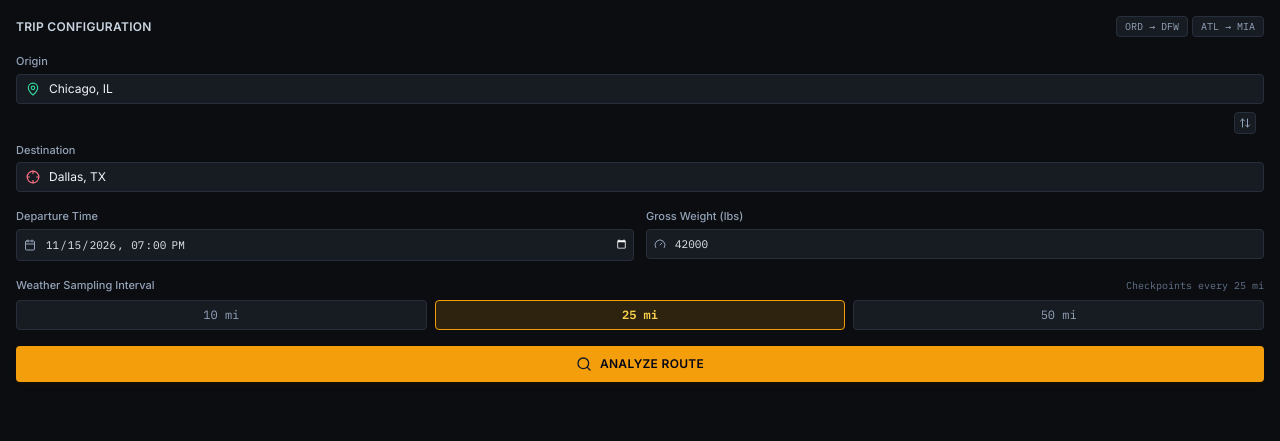
Test case: TripForm › validates empty origin and destination
The width and height of the screenshot is (1280, 441).
Clear the field labelled "Origin": coordinates (640, 88) [16,74,1264,104]
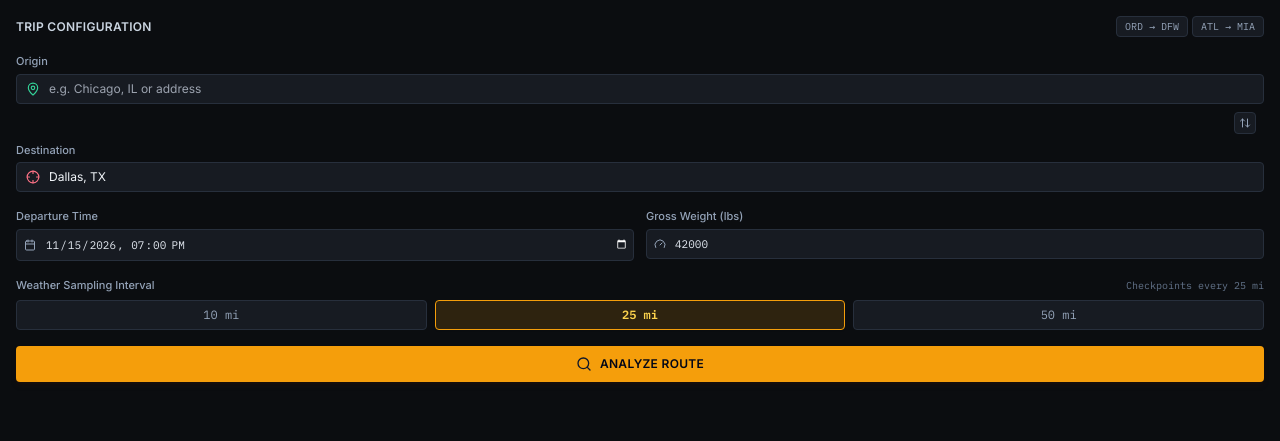
Clear the field labelled "Destination": coordinates (640, 177) [16,162,1264,192]
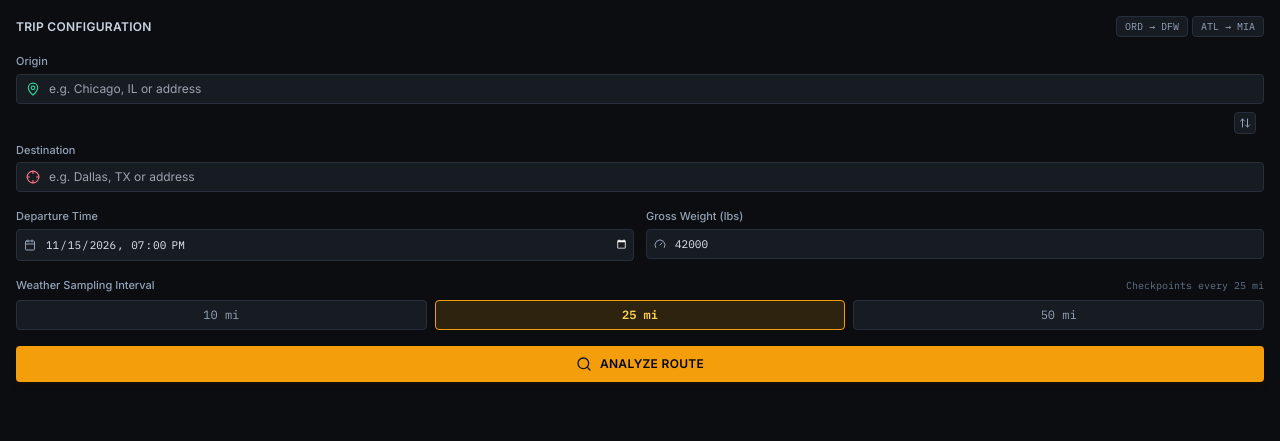
Click the button "ANALYZE ROUTE": coordinates (640, 364) [16,346,1264,382]
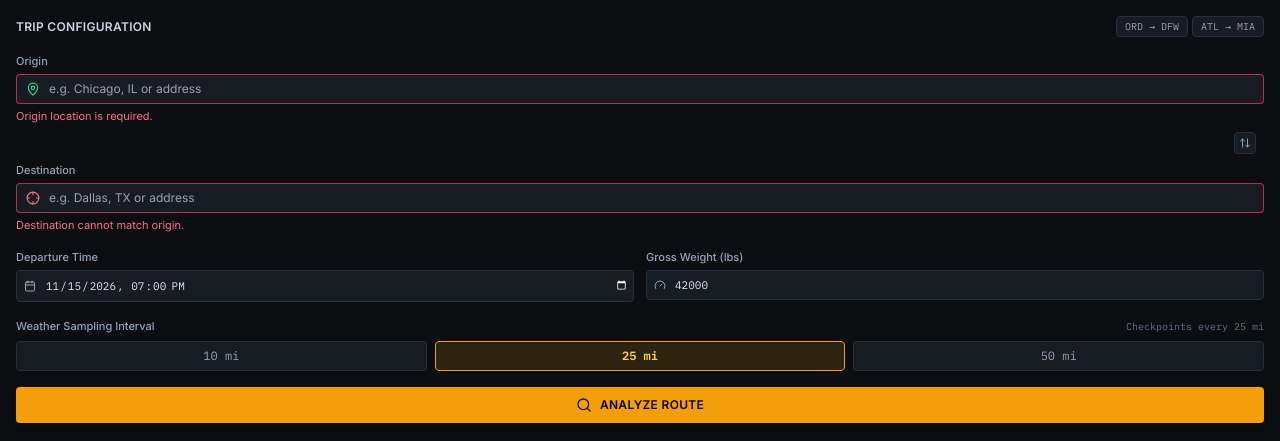
Now the text "Origin location is required." is shown, box [16,108,153,122]
